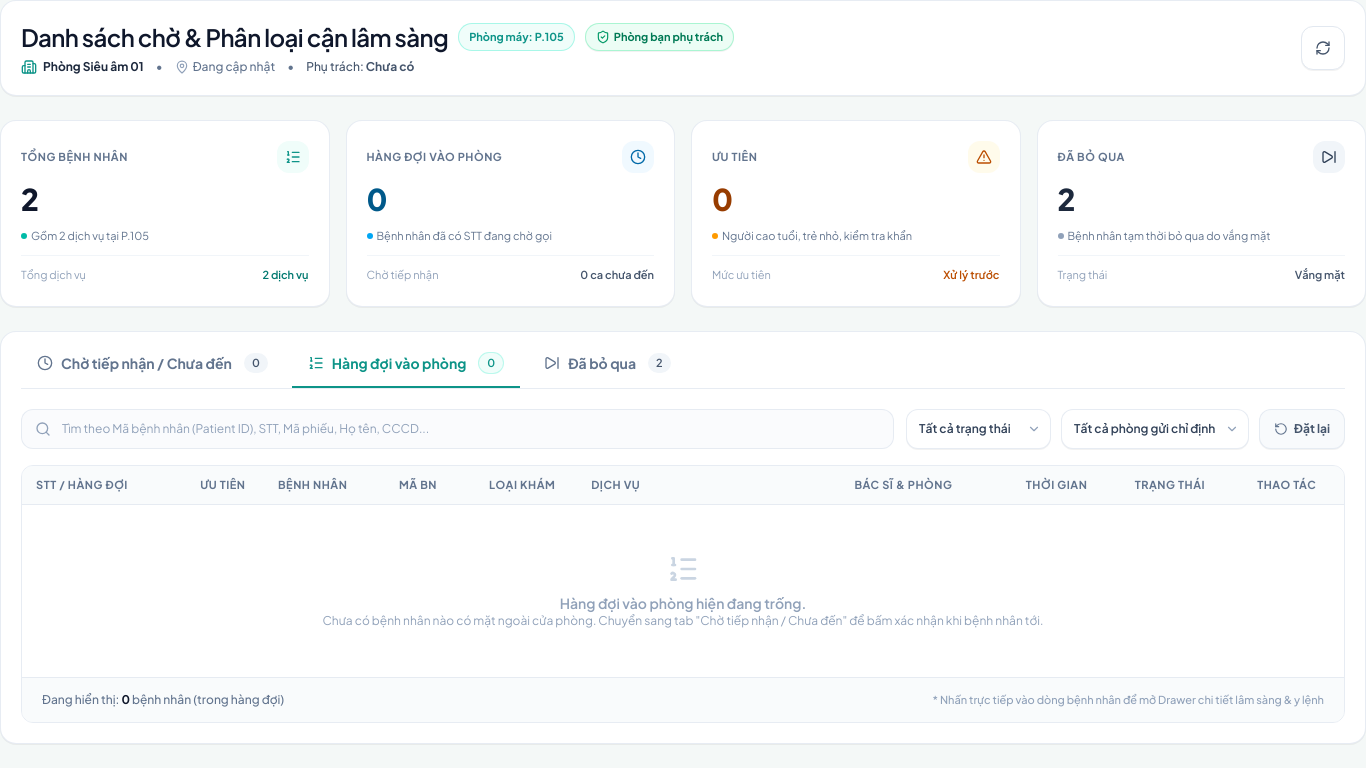
Scenario: TechnicianQueuePage – UC-66 Perform Paraclinical Order › Tab 3: Đã bỏ qua (Skipped Patients) & UC-46 Tiếp nhận lại › filters by exam type (BHYT / Dịch vụ) and resets correctly
Click the button "Đã bỏ qua 2": x=607, y=370 [528,353,687,387]
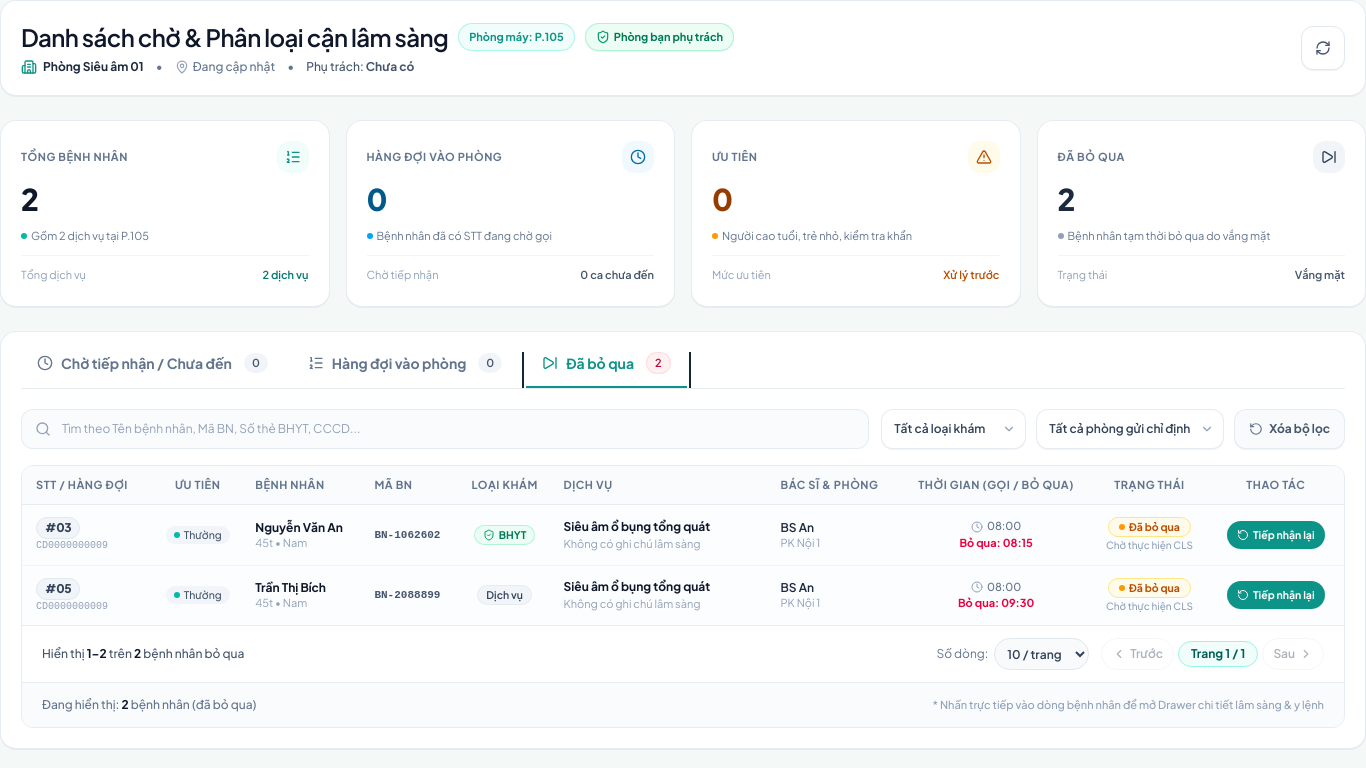
Now the text "Nguyễn Văn An" is shown, box [255,520,352,536]
Note: Filter by exam type: Dịch vụ
Select "Dịch vụ" in the 1st dropdown showing "Tất cả loại khám": x=954, y=429 [881,409,1026,449]
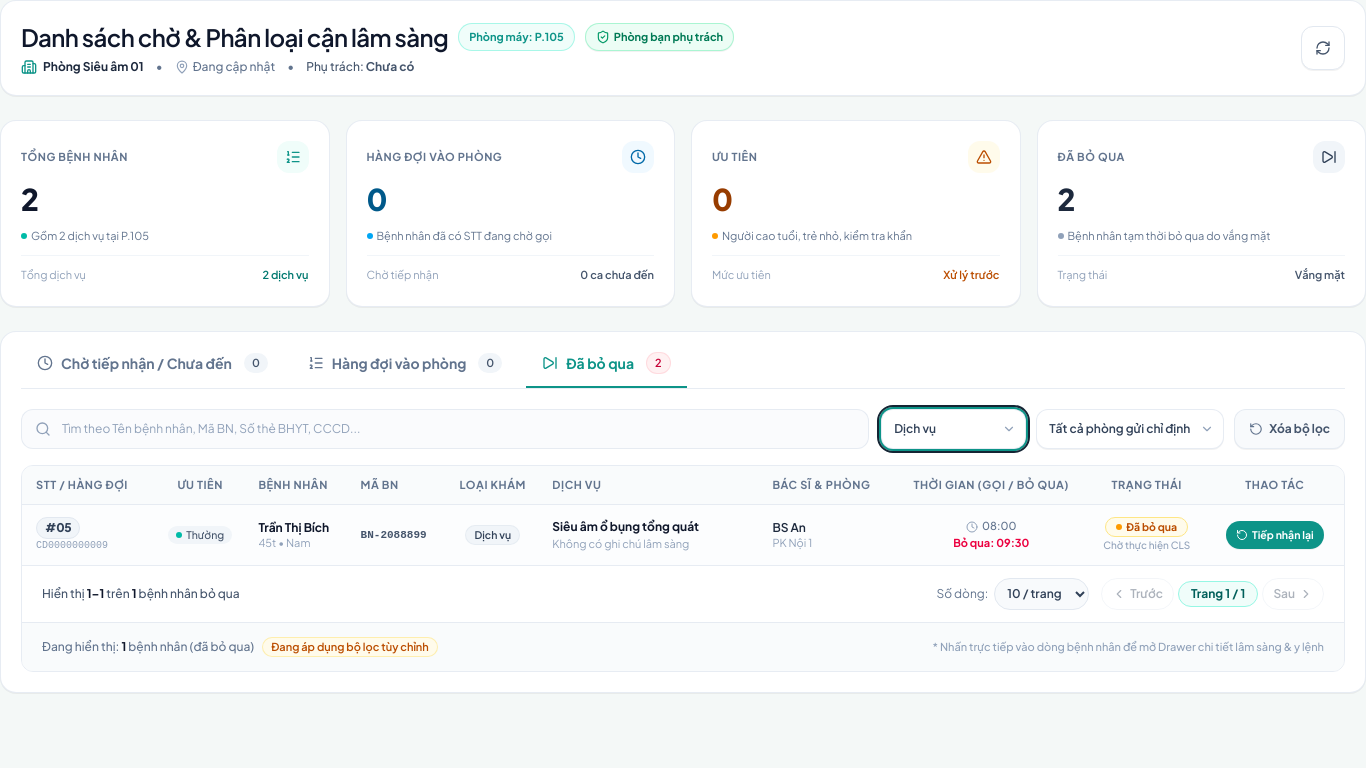
Now the text "Trần Thị Bích" is shown, box [258,520,339,536]
Now the text "Nguyễn Văn An" is gone
Note: Click "Xóa bộ lọc"
Click the button "Xóa bộ lọc": x=1290, y=429 [1234,409,1345,449]
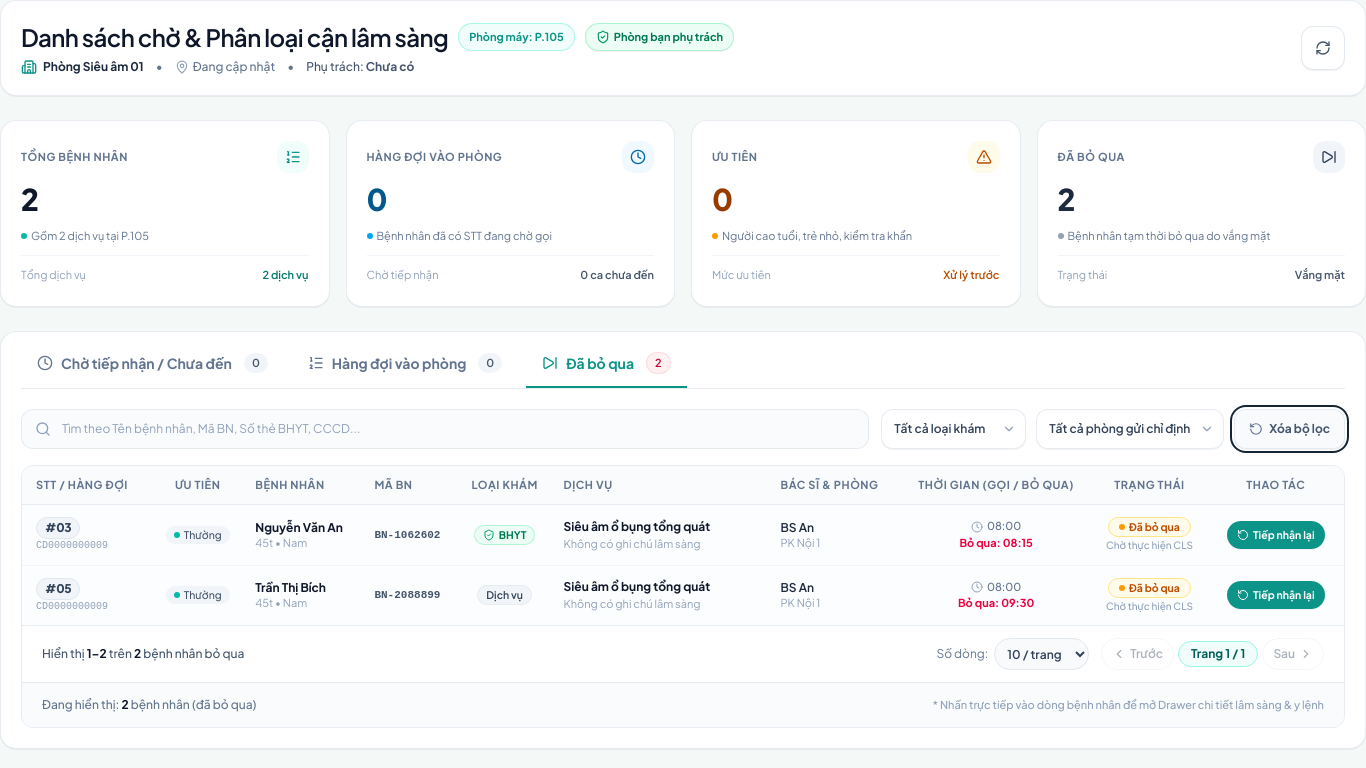
Now the text "Trần Thị Bích" is shown, box [255,580,326,595]
Now the text "Nguyễn Văn An" is shown, box [255,520,352,536]
